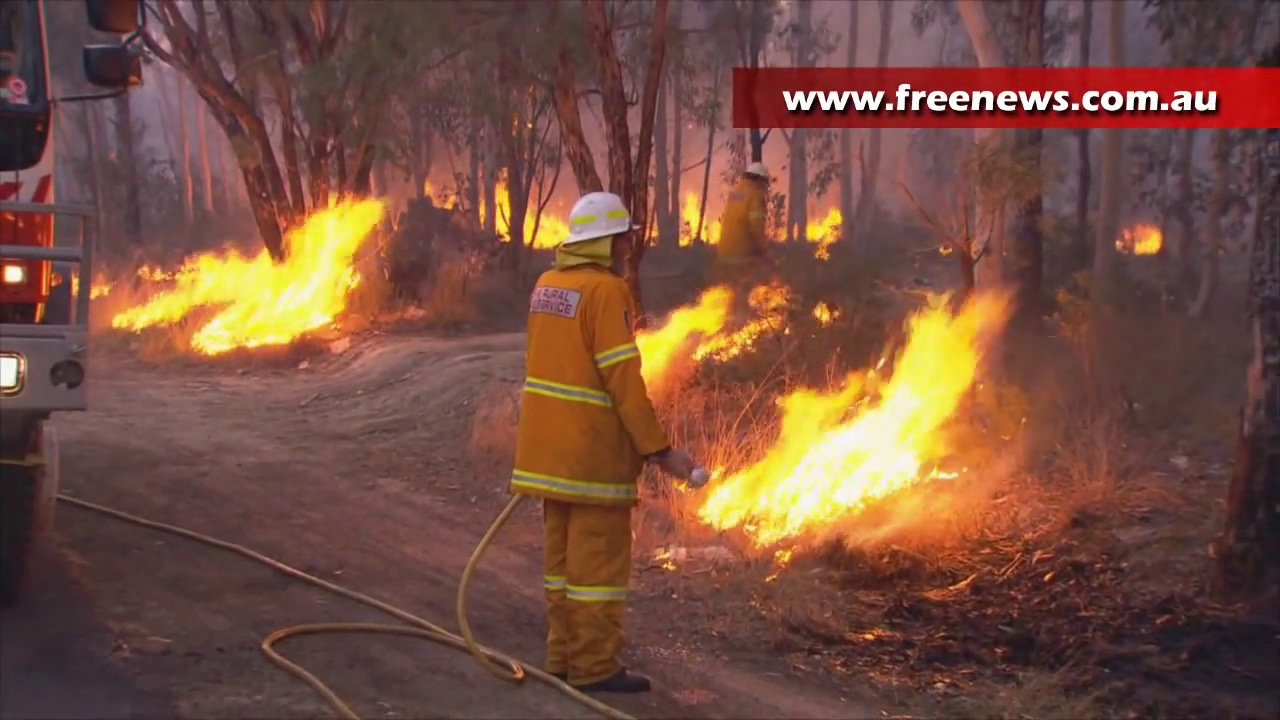fire: (699, 311, 989, 540), (116, 193, 384, 352), (638, 291, 730, 380), (525, 210, 565, 246), (809, 211, 840, 248), (1131, 224, 1162, 255), (685, 193, 703, 239)
